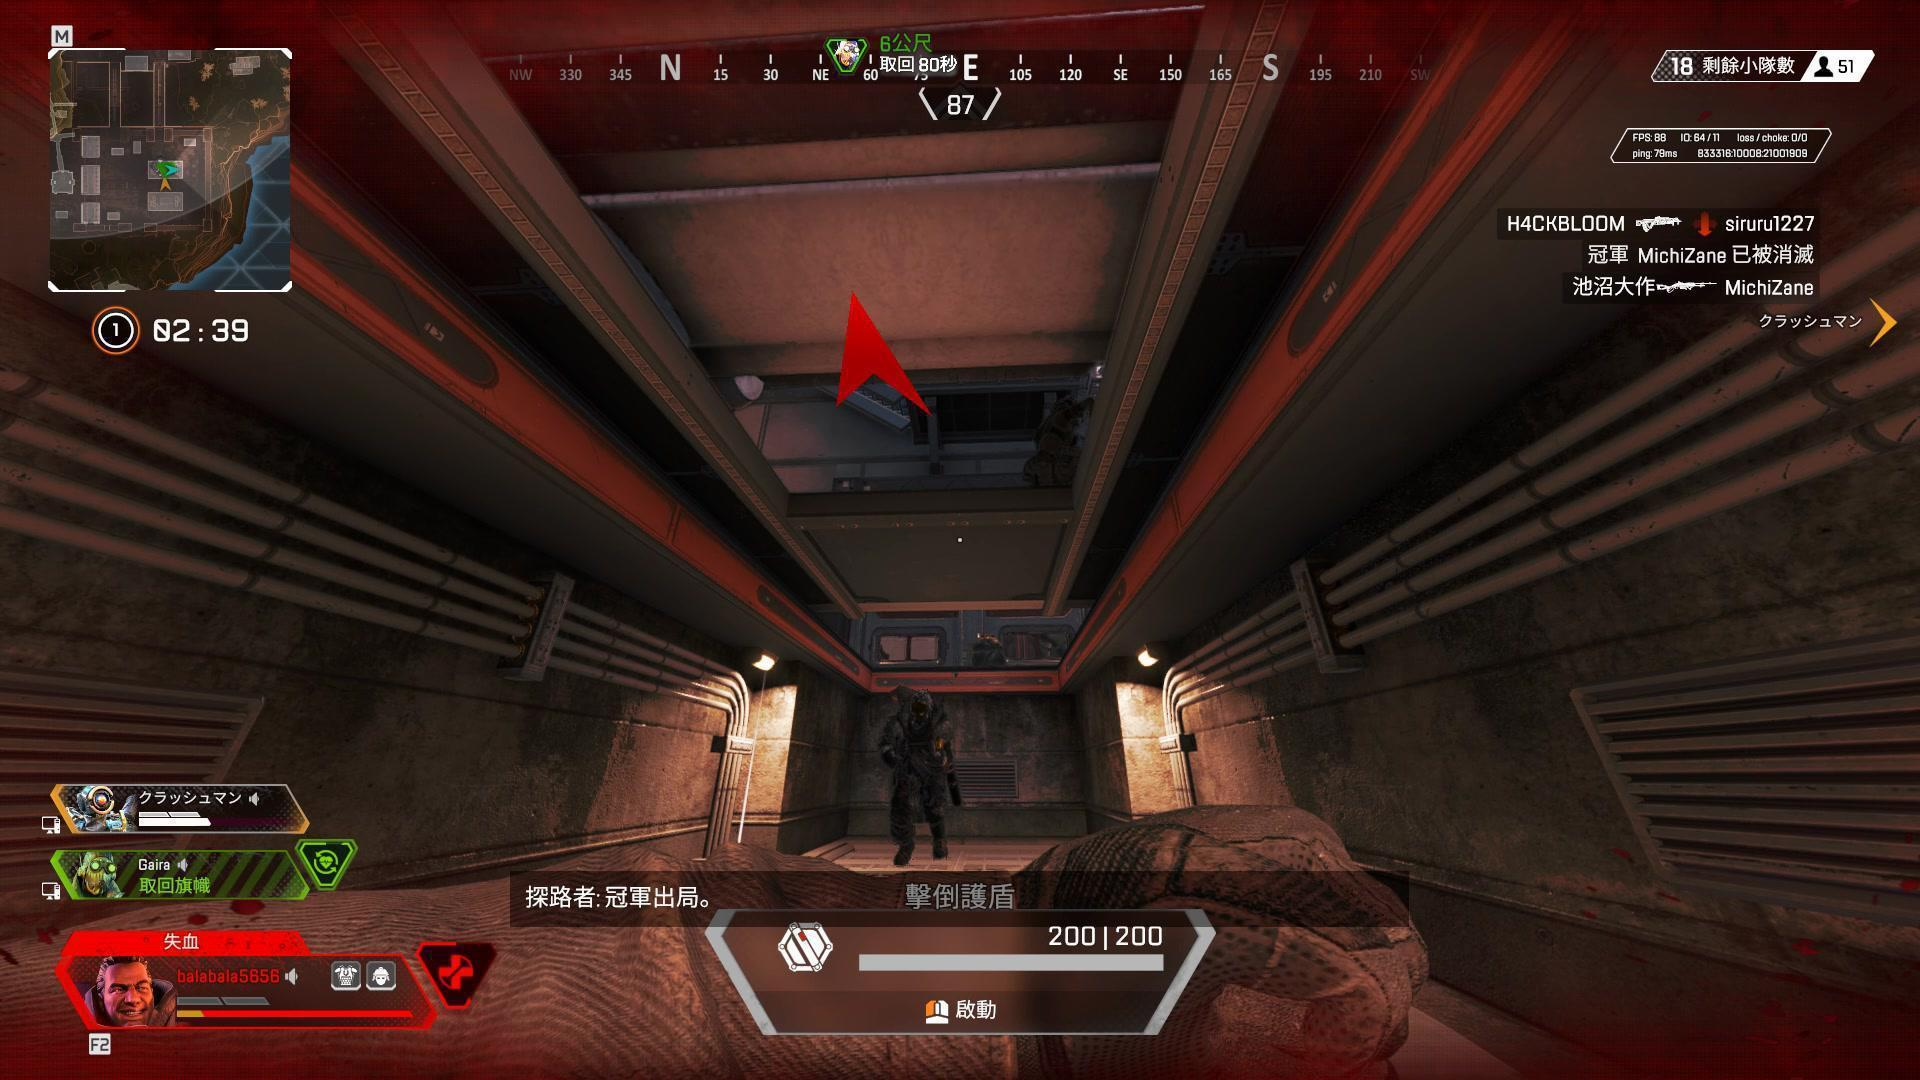avatar: (881, 690, 956, 871)
